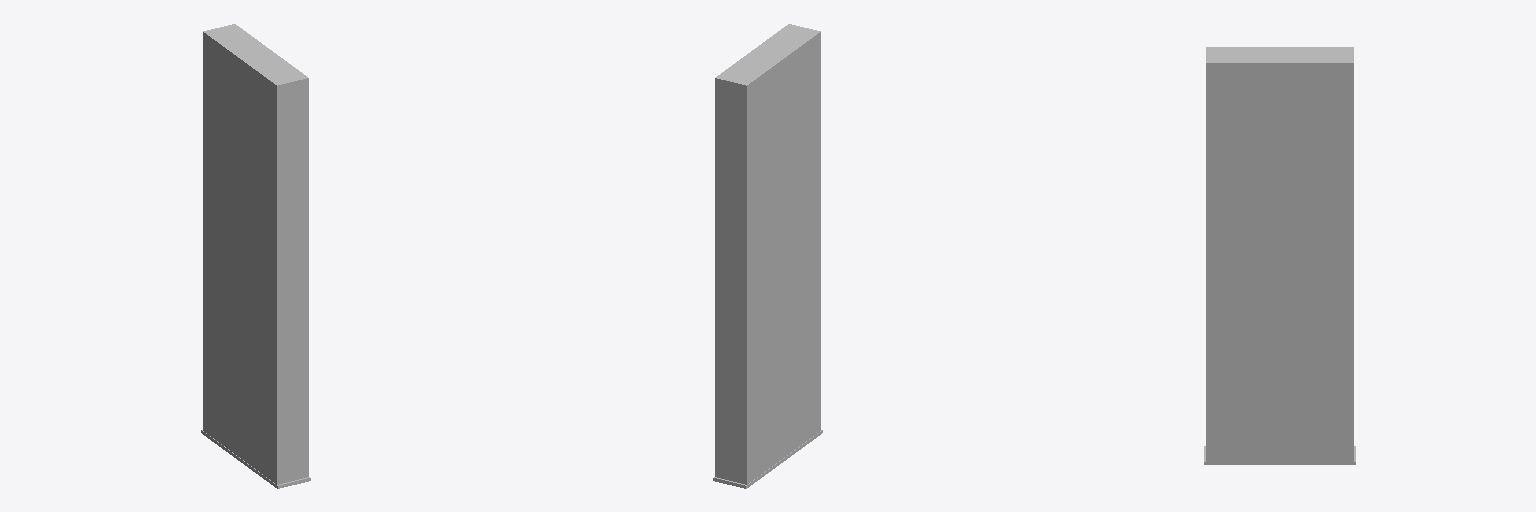
File: Wall.obj
3 views of the same model, side by side, from view 1: azimuth 30°, elevation 25°; view 2: azimuth 150°, elevation 25°; view 3: azimuth 270°, elevation 25° (orthographic).
Visible parts, largest first — view 1: Cube; view 2: Cube; view 3: Cube.
Boxes of the visible parts, box(x1,y1,x2,y2) form: Cube: box(201, 24, 310, 488); Cube: box(713, 24, 822, 488); Cube: box(1204, 47, 1355, 464).
Size of the model in its own units: 0.5141 by 6 by 2.06.